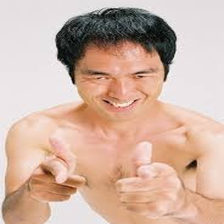no_mask: (70, 39, 165, 118)
